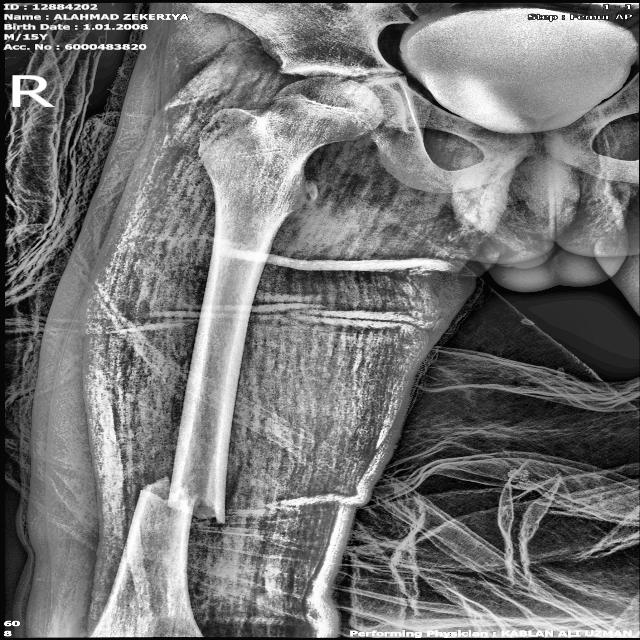Fracture: (105, 468, 248, 542)
